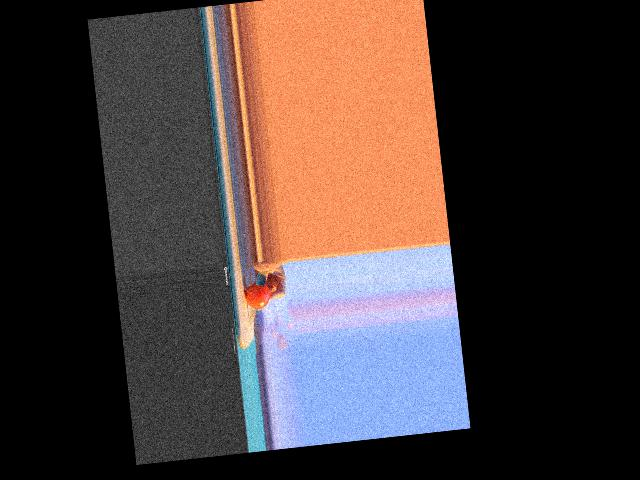tomato: (244, 282, 271, 310)
